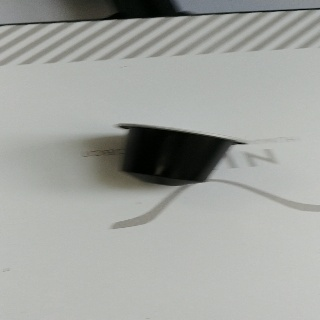capsule_10: (113, 122, 249, 187)
